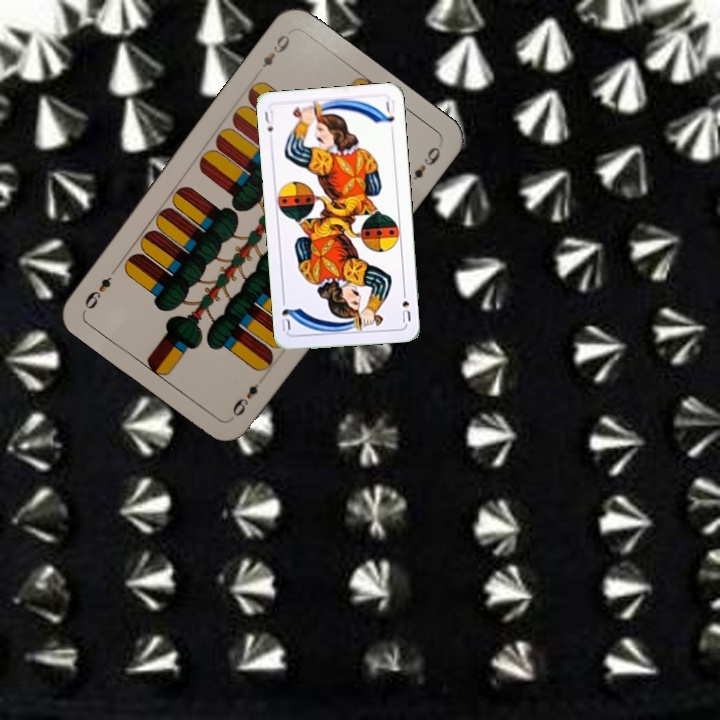E9: (257, 30, 293, 70), (228, 379, 263, 420)
SU: (398, 285, 413, 325), (260, 106, 277, 135)
